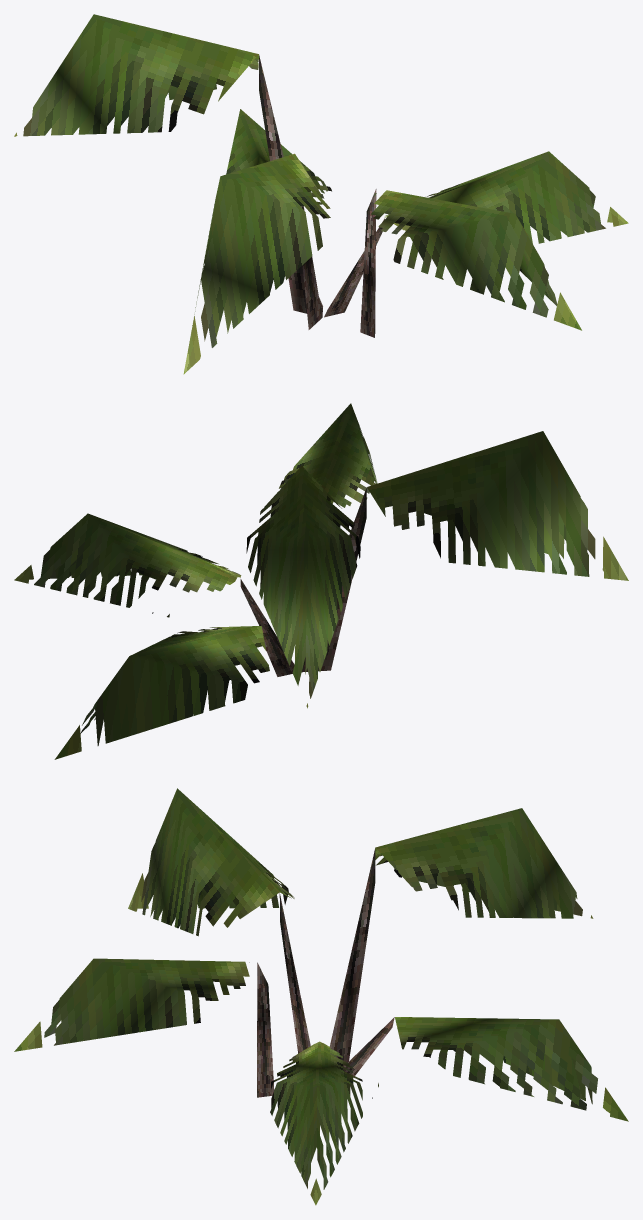
The model's file is Pplant2Z.obj.
3 renders of one model, top to bottom at view 1: azimuth 30°, elevation 25°; view 2: azimuth 150°, elevation 25°; view 3: azimuth 270°, elevation 25°, orthographic. The views are drawn at different scales.
Bounding box in the file's own units: 5628 × 2464 × 5986.
2 materials, 2 textured.
